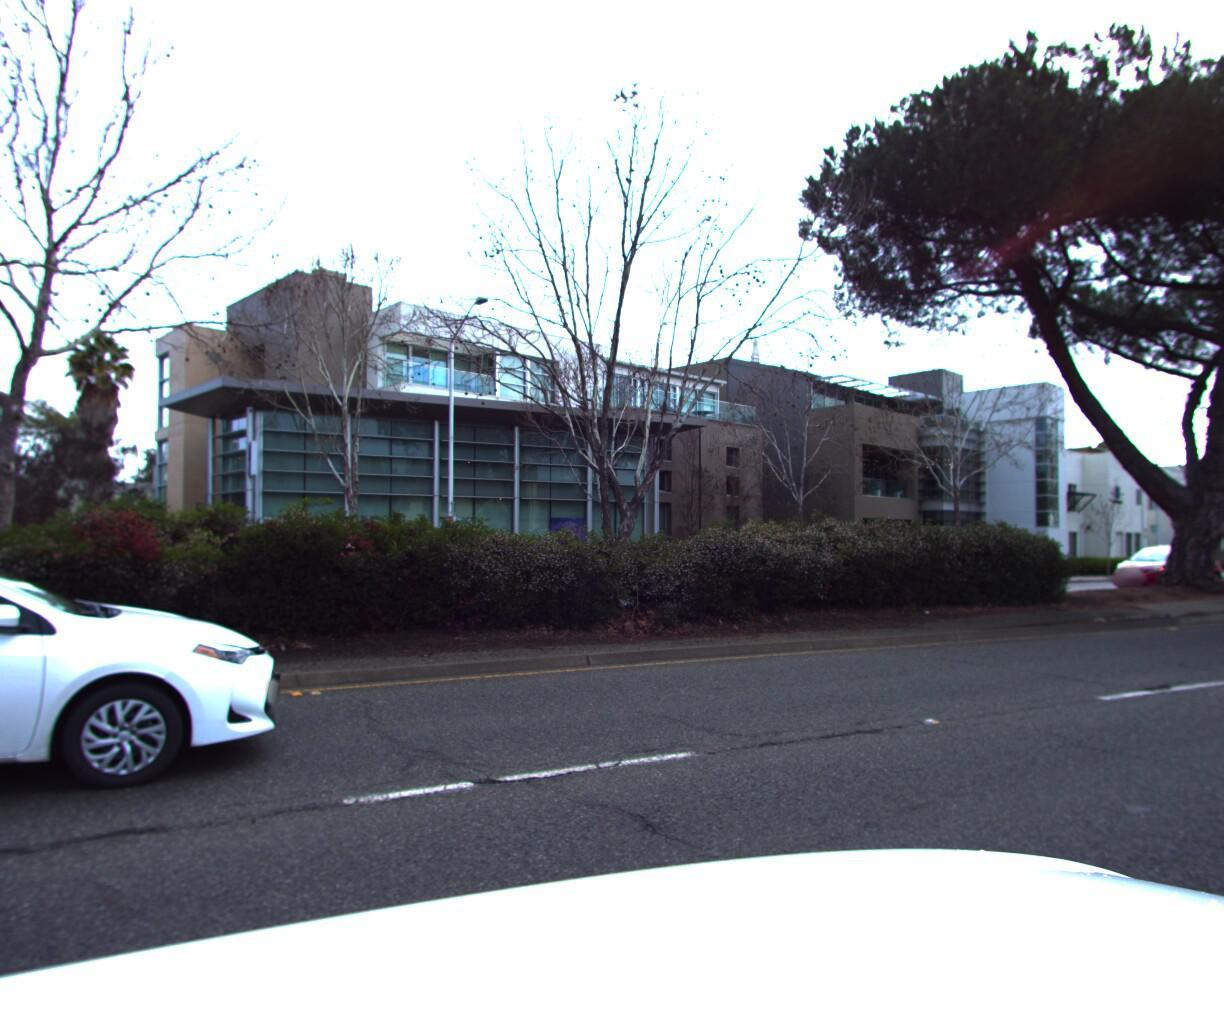car: (0, 518, 309, 922), (1094, 550, 1224, 596)
